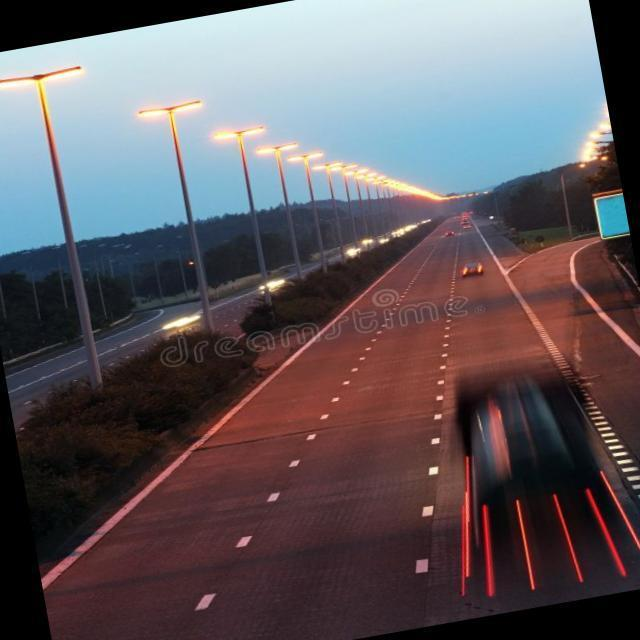on: (277, 121, 465, 217), (0, 52, 109, 101), (139, 91, 220, 132), (219, 119, 276, 154)
